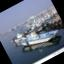fishing boat: (17, 19, 64, 56)
